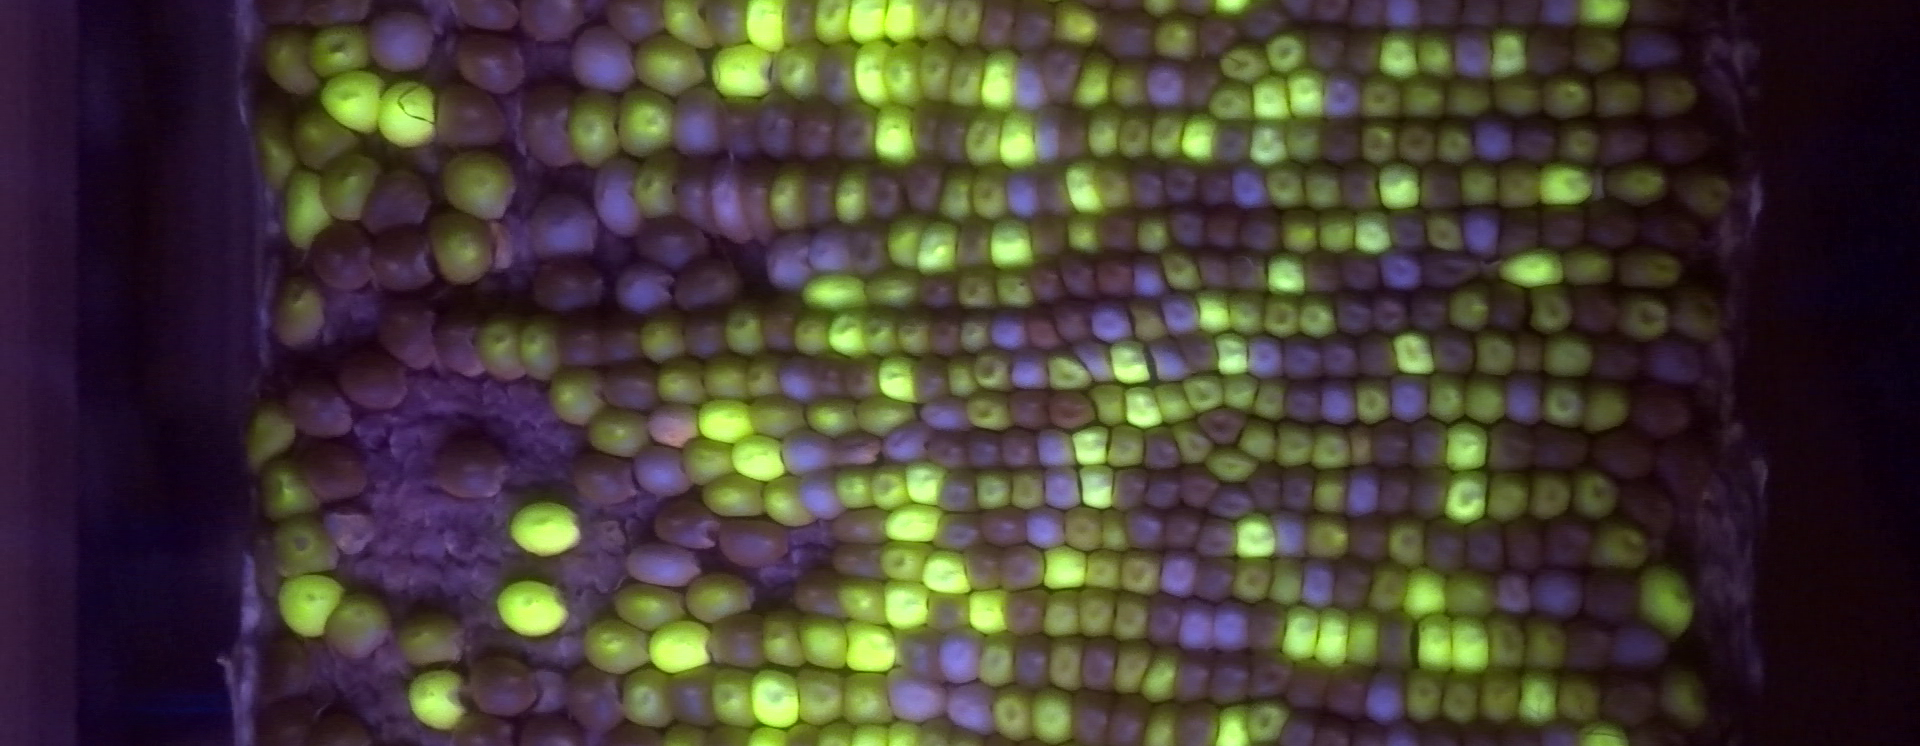fluorescent: (284, 97, 375, 169), (438, 147, 520, 225), (422, 206, 500, 289), (629, 29, 713, 104), (250, 23, 328, 102), (276, 570, 354, 644), (318, 590, 398, 664), (504, 497, 589, 563), (611, 82, 680, 163), (239, 397, 300, 485), (267, 513, 348, 579), (373, 78, 444, 153), (564, 85, 624, 173), (278, 168, 339, 254), (1635, 561, 1698, 643), (315, 67, 387, 138), (253, 454, 328, 523), (316, 149, 383, 225), (264, 274, 331, 352), (473, 306, 534, 388), (492, 577, 572, 639), (246, 111, 304, 194), (407, 668, 479, 733), (707, 40, 780, 104), (516, 307, 572, 390), (627, 145, 684, 224), (609, 579, 696, 632), (393, 608, 469, 668), (680, 568, 760, 625), (615, 661, 680, 731), (1668, 165, 1739, 229), (579, 617, 658, 675), (302, 20, 378, 78), (546, 364, 611, 432), (583, 404, 660, 461), (645, 616, 718, 674), (836, 668, 901, 731), (790, 611, 852, 677), (769, 37, 828, 105), (704, 661, 763, 730), (767, 156, 816, 236), (747, 666, 806, 733), (1611, 243, 1689, 293), (759, 472, 823, 532), (1439, 566, 1502, 626), (1561, 22, 1629, 78), (696, 470, 770, 521), (839, 619, 904, 676), (727, 429, 795, 484), (828, 159, 878, 233), (1636, 64, 1700, 121), (1518, 608, 1575, 673), (1660, 665, 1714, 733), (1482, 610, 1536, 677), (1538, 372, 1594, 436), (1536, 66, 1600, 121), (744, 390, 816, 440), (796, 269, 877, 314), (1494, 244, 1570, 290), (871, 100, 922, 169), (791, 666, 849, 728), (1602, 162, 1675, 209), (691, 393, 760, 443), (883, 207, 936, 273), (847, 40, 896, 111), (1565, 465, 1624, 524), (1067, 49, 1117, 118), (654, 356, 716, 412), (984, 681, 1040, 744), (1022, 684, 1078, 746), (758, 608, 812, 671), (1433, 666, 1487, 730), (851, 392, 924, 439), (1447, 608, 1494, 681), (1592, 65, 1651, 122), (1611, 294, 1679, 344), (696, 349, 756, 405), (1373, 157, 1433, 213), (831, 573, 893, 628), (1458, 369, 1513, 430), (911, 216, 965, 278), (677, 434, 740, 488), (1588, 518, 1651, 572), (1669, 287, 1728, 343), (987, 213, 1041, 274), (637, 306, 691, 367), (880, 499, 948, 548), (656, 1, 720, 53), (801, 391, 866, 441), (1474, 664, 1524, 729), (1556, 241, 1621, 292), (1299, 156, 1354, 214), (820, 307, 879, 363), (1385, 325, 1444, 380), (1521, 282, 1580, 337), (1512, 668, 1566, 728), (1522, 465, 1576, 526), (1402, 565, 1453, 627), (721, 298, 771, 361), (1532, 159, 1596, 209), (977, 45, 1024, 114), (860, 265, 928, 311), (1060, 154, 1109, 219), (1578, 381, 1633, 439), (1090, 156, 1142, 216), (1540, 330, 1600, 382), (959, 105, 1007, 171), (874, 538, 940, 586), (1487, 71, 1548, 122), (1229, 507, 1286, 562), (996, 107, 1043, 171), (1413, 612, 1461, 677), (917, 548, 976, 600), (1400, 664, 1449, 726), (1149, 10, 1205, 64), (1260, 21, 1314, 77), (1441, 418, 1495, 474), (915, 38, 959, 107), (1376, 24, 1427, 85), (971, 628, 1019, 691), (1382, 512, 1430, 575), (1156, 241, 1210, 296), (1551, 671, 1605, 726), (1037, 539, 1093, 592), (1491, 156, 1544, 212), (1135, 642, 1182, 706), (1041, 345, 1098, 397), (1048, 1, 1107, 51), (1365, 557, 1416, 616), (1441, 468, 1491, 527), (1280, 601, 1325, 666), (933, 165, 982, 225), (1440, 73, 1501, 121), (880, 40, 924, 107), (1311, 207, 1365, 261), (1299, 511, 1354, 563), (1468, 327, 1523, 380), (1453, 154, 1505, 211), (947, 43, 989, 110), (1282, 64, 1331, 122), (1265, 156, 1313, 216), (872, 353, 924, 407), (1247, 116, 1297, 173), (880, 576, 931, 632), (961, 390, 1022, 435), (1043, 633, 1089, 695), (831, 461, 884, 513), (1168, 416, 1221, 469), (1270, 416, 1320, 472), (1240, 696, 1296, 746), (1484, 470, 1534, 526), (1354, 113, 1404, 168), (1114, 548, 1167, 599), (1400, 71, 1451, 124), (741, 1, 791, 55), (867, 461, 917, 514), (1392, 118, 1442, 171), (1223, 285, 1272, 341), (1149, 379, 1204, 428), (1176, 110, 1223, 167), (1200, 443, 1262, 486), (1341, 608, 1384, 670), (1104, 58, 1155, 110), (1444, 284, 1496, 334), (1554, 116, 1607, 167), (1122, 292, 1171, 345), (790, 305, 836, 361), (1108, 336, 1155, 392), (1308, 464, 1354, 521), (1060, 502, 1107, 559), (1216, 40, 1273, 86), (969, 163, 1013, 222), (1236, 415, 1286, 467), (1305, 421, 1356, 473), (1357, 72, 1407, 124), (860, 307, 909, 360), (1228, 555, 1277, 608), (1280, 114, 1327, 168), (1259, 290, 1307, 344), (989, 265, 1043, 312), (1007, 461, 1054, 514), (1107, 593, 1155, 647), (1310, 608, 1351, 671), (1082, 103, 1125, 163), (1074, 586, 1120, 641), (1487, 23, 1533, 78), (1145, 107, 1190, 163), (1422, 206, 1472, 256), (1119, 381, 1171, 430), (962, 587, 1015, 635), (1040, 588, 1087, 641), (1180, 370, 1234, 416), (1109, 637, 1151, 697), (1250, 72, 1296, 127), (905, 458, 949, 514), (1351, 371, 1395, 428), (1427, 370, 1471, 426), (969, 345, 1019, 394), (954, 266, 1005, 314), (1431, 118, 1479, 169), (1277, 206, 1324, 258), (1262, 249, 1309, 301), (891, 306, 937, 360), (1205, 80, 1261, 122), (1296, 290, 1341, 343), (1116, 108, 1160, 162), (1570, 1, 1647, 32), (939, 1, 987, 50), (1247, 376, 1296, 424), (1080, 545, 1127, 595), (1074, 461, 1119, 512), (1209, 328, 1253, 380), (1265, 559, 1309, 610), (1133, 208, 1177, 258), (1103, 421, 1147, 472), (1218, 370, 1265, 416), (971, 467, 1019, 512), (1349, 208, 1393, 257), (1089, 381, 1131, 431), (1097, 503, 1136, 557), (956, 311, 1000, 359), (1136, 702, 1184, 746), (1062, 209, 1104, 258), (1194, 287, 1236, 337), (1211, 699, 1255, 746), (943, 352, 986, 399), (741, 352, 782, 401), (845, 1, 889, 47), (811, 1, 853, 48), (1070, 423, 1111, 470), (880, 1, 922, 45), (910, 1, 949, 45)
nonfluorescent: (422, 76, 509, 156), (523, 190, 601, 269), (362, 220, 443, 296), (427, 432, 513, 503), (516, 78, 580, 171), (449, 24, 530, 97), (527, 254, 607, 323), (587, 151, 647, 243), (1632, 190, 1704, 266), (564, 23, 638, 97), (304, 220, 378, 293), (360, 9, 437, 78), (426, 301, 493, 380), (464, 650, 541, 718), (636, 216, 715, 281), (373, 296, 441, 372), (1576, 561, 1642, 638), (359, 167, 431, 236), (1608, 472, 1676, 545), (291, 441, 373, 502), (643, 495, 726, 555), (879, 661, 954, 728), (336, 348, 411, 413), (705, 151, 756, 249), (1576, 191, 1644, 261), (669, 256, 742, 320), (283, 380, 358, 442), (762, 229, 825, 301), (889, 619, 953, 691), (560, 664, 624, 734), (564, 445, 636, 508), (1521, 415, 1596, 475), (610, 258, 680, 322), (673, 152, 724, 240), (702, 612, 775, 673), (1637, 330, 1704, 394), (715, 513, 792, 570), (1093, 5, 1166, 65), (797, 153, 849, 236), (1587, 425, 1658, 485), (736, 156, 782, 246), (1600, 619, 1671, 677), (669, 81, 722, 158), (1615, 20, 1685, 78), (1640, 114, 1706, 175), (628, 437, 694, 499), (623, 541, 704, 590), (1626, 381, 1689, 442), (665, 663, 725, 726), (1455, 514, 1513, 579), (936, 680, 1000, 739), (1359, 661, 1416, 729), (751, 89, 800, 167), (1501, 507, 1551, 582), (812, 43, 864, 114), (1591, 110, 1651, 171), (1524, 567, 1584, 628), (1482, 419, 1544, 478), (1537, 510, 1593, 575), (511, 1, 590, 47), (1566, 281, 1624, 343), (1502, 110, 1562, 169), (1559, 612, 1610, 681), (1416, 514, 1473, 576), (1321, 657, 1371, 726), (756, 292, 807, 359), (1284, 653, 1336, 720), (594, 311, 651, 371), (550, 314, 610, 371), (791, 464, 849, 524), (719, 92, 767, 164), (900, 152, 950, 220), (786, 570, 855, 620), (1531, 196, 1586, 258), (1204, 647, 1259, 709), (791, 93, 838, 167), (829, 99, 878, 169), (1139, 53, 1191, 118), (1363, 413, 1416, 478), (1411, 244, 1482, 292), (1583, 332, 1646, 386), (599, 359, 662, 412), (1480, 276, 1532, 341), (933, 624, 984, 688), (1411, 156, 1468, 213), (1330, 246, 1389, 303), (1464, 109, 1521, 167), (1038, 42, 1087, 108), (1371, 608, 1420, 674), (776, 426, 838, 479), (1400, 412, 1452, 473), (1498, 367, 1548, 431), (1404, 461, 1453, 526), (1520, 26, 1572, 86), (1224, 156, 1277, 216), (1276, 330, 1329, 390), (904, 91, 947, 164), (1240, 595, 1292, 657), (1311, 114, 1368, 169), (1123, 153, 1171, 218), (697, 1, 756, 54), (804, 222, 857, 281), (835, 349, 887, 409), (1337, 461, 1389, 521), (1033, 159, 1080, 225), (1424, 326, 1479, 381), (1245, 646, 1298, 703), (1296, 244, 1347, 303), (1155, 152, 1204, 213), (1007, 49, 1052, 115), (1179, 54, 1224, 120), (1498, 198, 1543, 265), (602, 1, 670, 45), (1089, 205, 1144, 258), (680, 309, 733, 364), (1275, 374, 1329, 429), (1234, 205, 1284, 263), (1142, 325, 1193, 383), (1041, 385, 1100, 435), (847, 220, 893, 285), (1198, 202, 1247, 262), (1013, 628, 1056, 697), (1207, 597, 1255, 658), (829, 506, 895, 550), (1374, 243, 1428, 296), (1384, 370, 1435, 426), (1381, 200, 1431, 257), (877, 419, 936, 468), (1067, 684, 1114, 744), (1076, 628, 1120, 693), (1052, 104, 1093, 173), (1010, 1, 1057, 62), (1065, 337, 1119, 390), (994, 416, 1046, 472), (1457, 202, 1502, 265), (1335, 159, 1385, 216), (909, 352, 958, 409), (1085, 292, 1133, 350), (1371, 462, 1419, 521), (1209, 113, 1254, 174), (972, 503, 1033, 549), (1048, 296, 1100, 350), (1035, 463, 1089, 514), (996, 541, 1049, 593), (1322, 290, 1378, 341), (1299, 22, 1348, 78), (1171, 457, 1220, 513), (958, 539, 1007, 595), (1452, 24, 1496, 87), (954, 211, 996, 277), (1166, 697, 1223, 745), (1189, 552, 1240, 605), (1173, 327, 1223, 381), (1000, 162, 1044, 223), (1273, 458, 1318, 519), (1176, 593, 1220, 654), (1054, 249, 1102, 305), (1194, 402, 1250, 450), (863, 165, 910, 223), (808, 348, 855, 405), (936, 99, 973, 169), (928, 510, 988, 554), (1171, 646, 1215, 706), (1336, 26, 1386, 78), (1352, 333, 1404, 383), (1103, 462, 1153, 514), (934, 465, 982, 521), (1120, 501, 1168, 556), (828, 541, 889, 584), (1330, 555, 1373, 616), (1320, 67, 1367, 124), (1153, 545, 1200, 601), (1266, 505, 1311, 562), (446, 1, 522, 36), (1245, 458, 1287, 521), (1232, 1, 1291, 45), (1003, 587, 1053, 638), (923, 586, 976, 635), (1124, 249, 1172, 303), (920, 429, 973, 477), (1091, 245, 1138, 300), (1024, 255, 1070, 310), (446, 710, 520, 745), (973, 1, 1019, 58), (1029, 100, 1064, 171), (1007, 383, 1056, 435), (1136, 465, 1185, 517), (1191, 511, 1240, 562), (984, 303, 1031, 356), (1022, 211, 1068, 266), (1244, 330, 1289, 385), (1297, 552, 1336, 616), (1020, 503, 1070, 552), (1156, 288, 1204, 339), (1007, 343, 1054, 394), (1205, 475, 1256, 523), (776, 1, 820, 56), (1193, 158, 1237, 213), (1022, 300, 1067, 355), (1488, 568, 1536, 619), (1141, 590, 1183, 648), (516, 709, 585, 744), (298, 1, 370, 34), (1364, 288, 1409, 341), (1035, 423, 1080, 475), (1228, 246, 1272, 300), (1318, 374, 1358, 432), (917, 393, 973, 435), (1190, 9, 1239, 56), (830, 424, 880, 470), (1347, 514, 1391, 567), (778, 352, 820, 405), (1318, 328, 1360, 382), (1161, 202, 1209, 250), (1193, 244, 1236, 296), (1403, 287, 1449, 336), (1140, 425, 1185, 474), (962, 425, 1005, 477), (1160, 506, 1202, 557), (913, 268, 961, 314), (926, 307, 965, 363), (525, 668, 568, 717), (1107, 690, 1157, 731), (1529, 1, 1584, 36), (1453, 1, 1505, 37), (1375, 1, 1427, 36), (1340, 1, 1389, 33), (1493, 1, 1547, 29), (1273, 710, 1318, 744), (1305, 1, 1356, 29), (1416, 1, 1464, 29), (1275, 1, 1322, 24)
